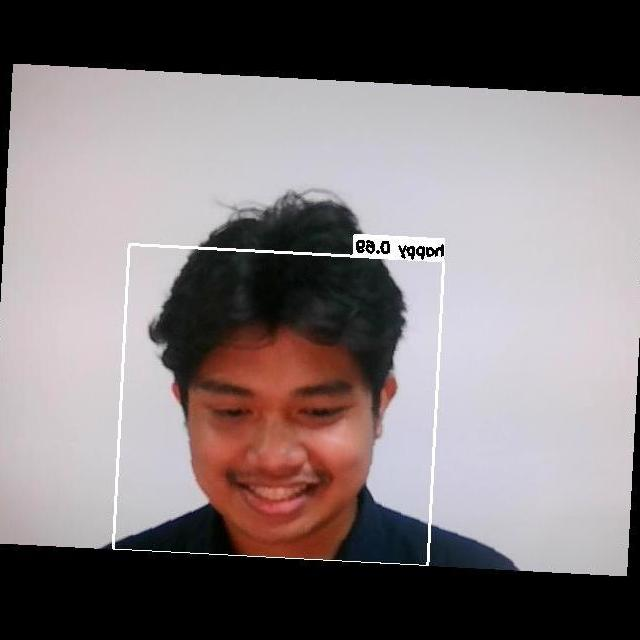Happy: (182, 345, 382, 528)
